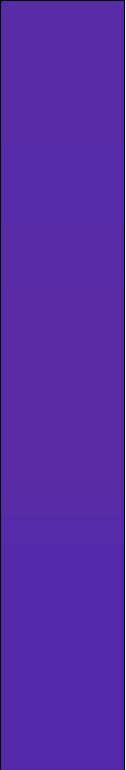safe: (8, 8, 118, 754)
